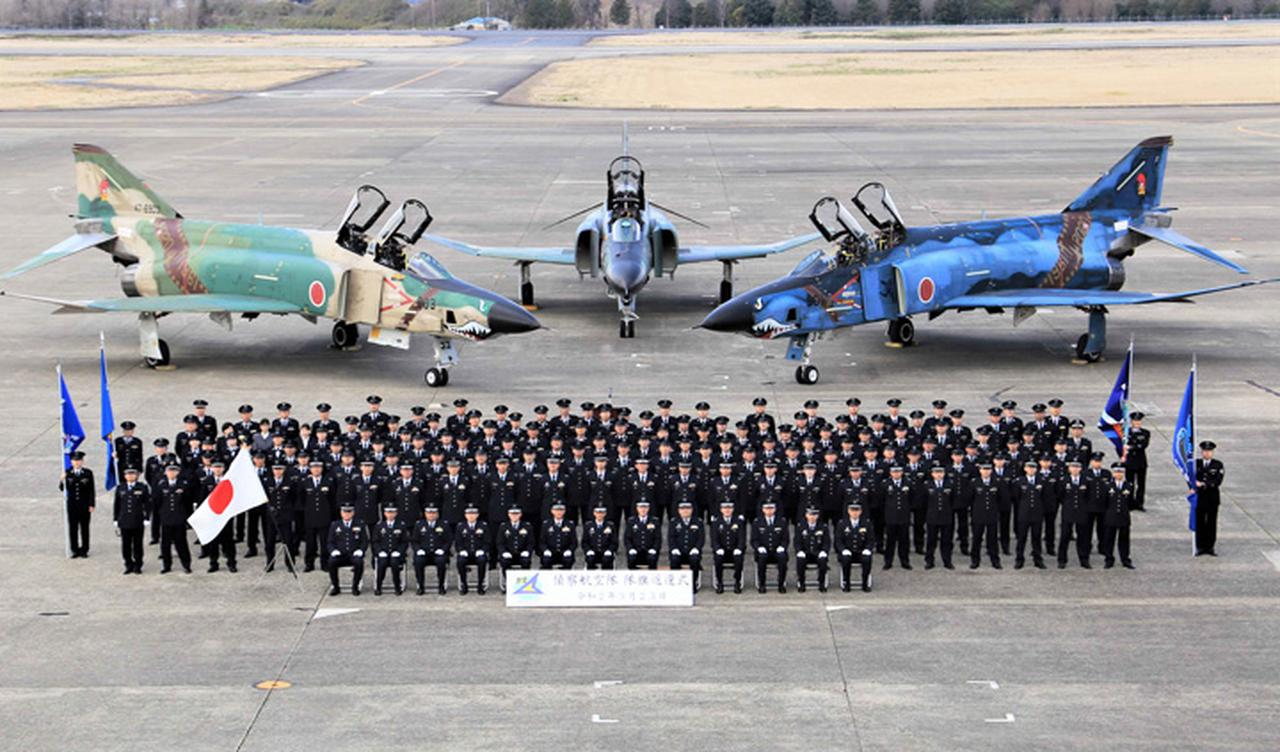F4: (681, 134, 1280, 384), (1, 142, 559, 387), (413, 119, 836, 338)
